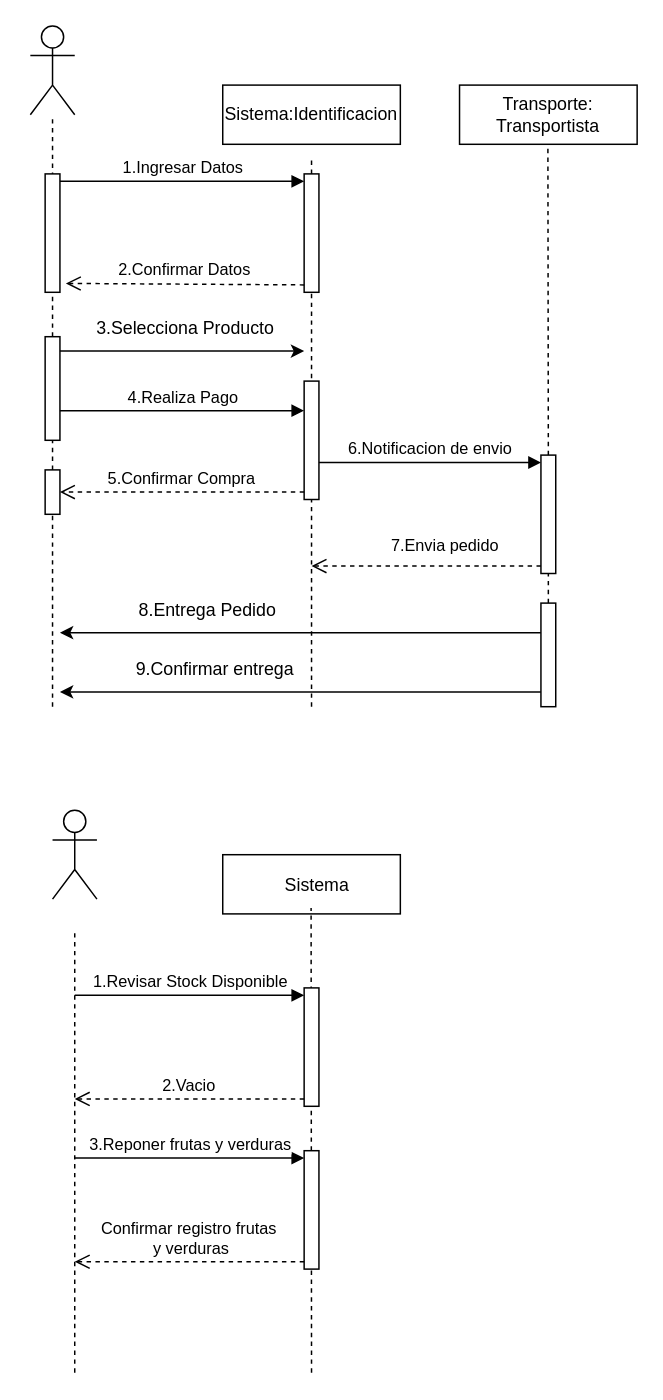
The diagram is 663 pixels wide and 1400 high, and some of its shapes have lost their labels. Here are the shapes that lost their labels. From the top down, the centre of each, then its label:
At point 52,69: "Cliente".
At point 74,854: "Empleado".
